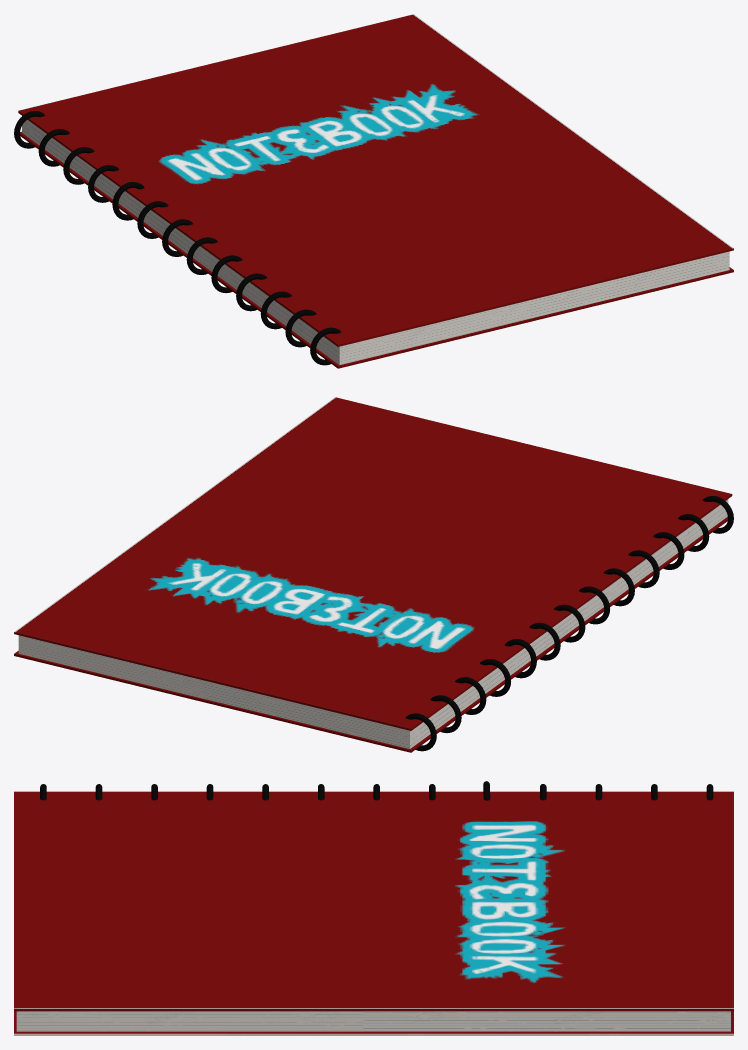
The model's file is defter.fbx.
3 views of the same model, one above another, from view 1: azimuth 30°, elevation 25°; view 2: azimuth 150°, elevation 25°; view 3: azimuth 270°, elevation 25° (orthographic). The views are drawn at different scales.
Parts seen in each view (by area): view 1: grh; view 2: grh; view 3: grh.
Part boxes in pixels (left/top/right/bottom): grh: left=14, top=14, right=733, bottom=368; grh: left=14, top=397, right=733, bottom=752; grh: left=14, top=781, right=733, bottom=1035.
Bounding box in the file's own units: 12.79 × 1.14 × 17.24.
1 material, 1 textured.
